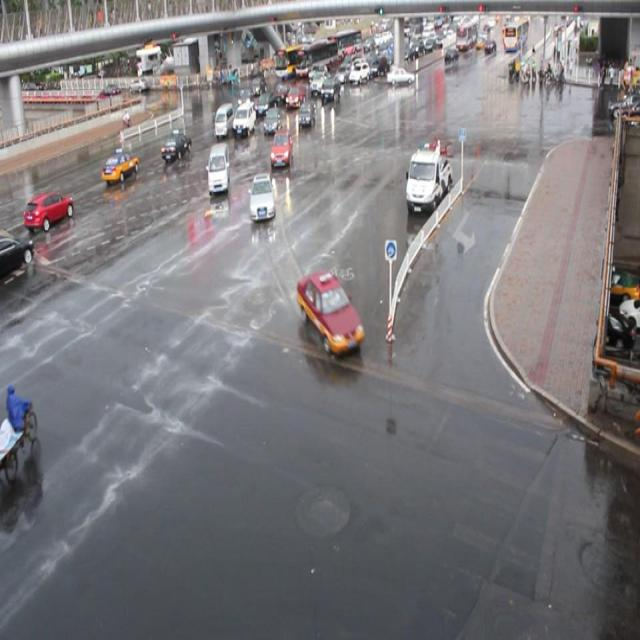bus: (404, 145, 452, 213)
car: (297, 269, 366, 354), (24, 190, 74, 231), (1, 232, 35, 278), (248, 172, 277, 220), (102, 147, 139, 180), (160, 129, 192, 158), (270, 129, 294, 165), (254, 91, 277, 115), (262, 106, 282, 132), (320, 76, 340, 102), (297, 100, 316, 126), (285, 84, 305, 106), (310, 71, 329, 93), (237, 86, 254, 107), (249, 76, 267, 95), (274, 82, 291, 102)
truck: (206, 142, 231, 192), (232, 101, 256, 136), (214, 102, 234, 137)
